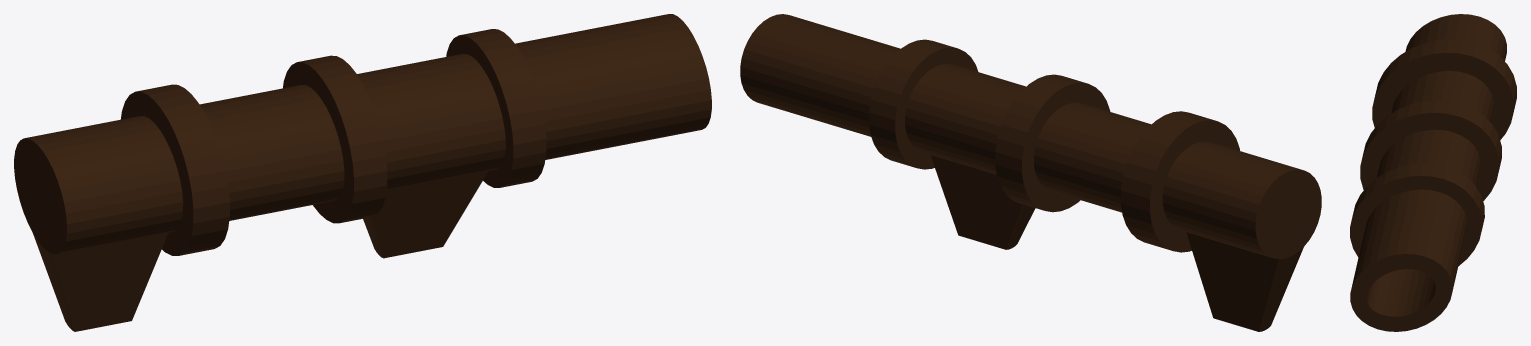
The model's file is bazooka.fbx.
The picture shows the model from 3 angles, left to right: view 1: azimuth 30°, elevation 25°; view 2: azimuth 150°, elevation 25°; view 3: azimuth 270°, elevation 25°; orthographic projection. The views are drawn at different scales.
Parts seen in each view (by area): view 1: Cylinder; view 2: Cylinder; view 3: Cylinder.
Boxes of the visible parts, left/top/right/bottom form: Cylinder: left=14, top=14, right=711, bottom=331; Cylinder: left=740, top=14, right=1321, bottom=331; Cylinder: left=1350, top=14, right=1516, bottom=331.
Size of the model in its own units: 800 by 257 by 231.
